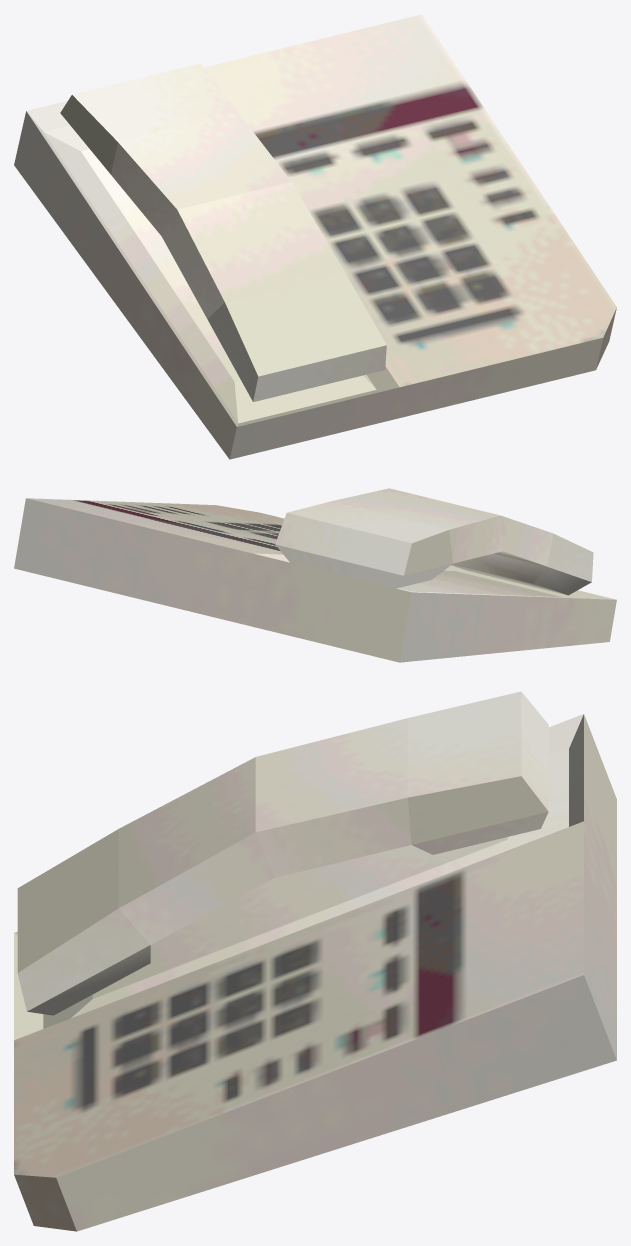
The model's file is Phone.fbx.
3 renders of one model, top to bottom at view 1: azimuth 30°, elevation 25°; view 2: azimuth 150°, elevation 25°; view 3: azimuth 270°, elevation 25°, orthographic. The views are drawn at different scales.
Parts seen in each view (by area): view 1: desk_phone.001, desk_phone_handle.001; view 2: desk_phone.001, desk_phone_handle.001; view 3: desk_phone.001, desk_phone_handle.001.
Part boxes in pixels (x1,y1,x2,y2): desk_phone.001: (14, 14, 616, 459); desk_phone_handle.001: (60, 63, 386, 401); desk_phone.001: (14, 498, 616, 662); desk_phone_handle.001: (275, 488, 593, 595); desk_phone.001: (14, 714, 616, 1231); desk_phone_handle.001: (17, 691, 548, 1015).
Size of the model in its own units: 33.28 by 18.29 by 32.48.
